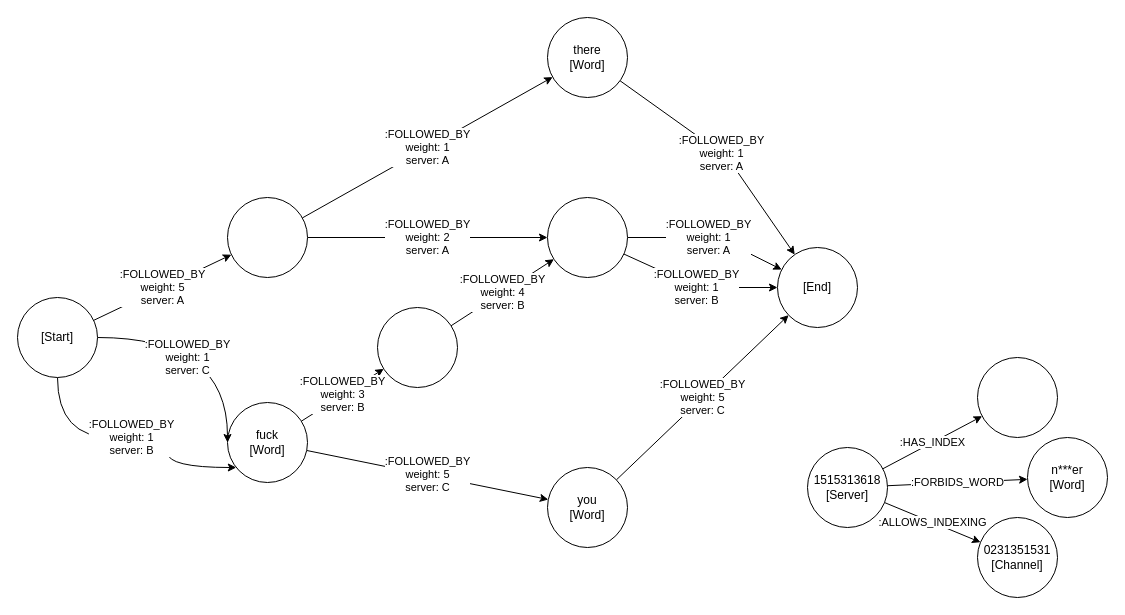
The diagram is 1125 pixels wide and 615 high, and some of its shapes have lost their labels. Each missing label, with the centre of its shape:
[IndexStatus] last_message: 13153153135: [1017,397]
hello [Word]: [267,237]
the [Word]: [417,347]
world [Word]: [587,237]
